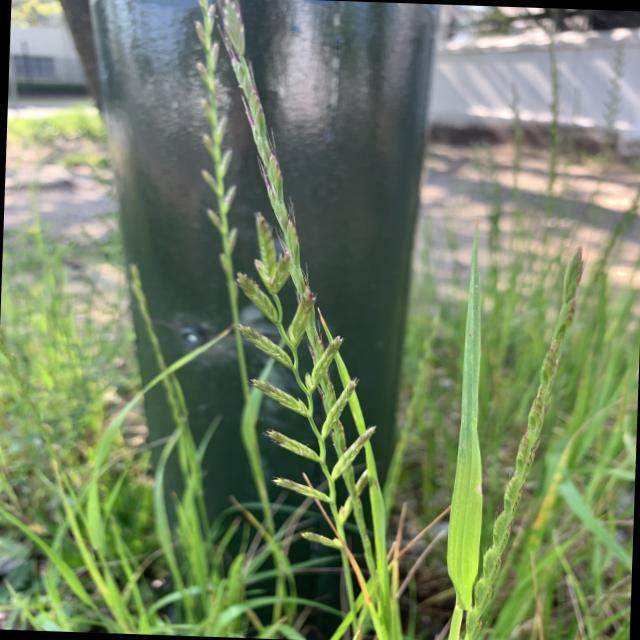Lolium: (168, 0, 426, 640), (463, 251, 589, 640)
